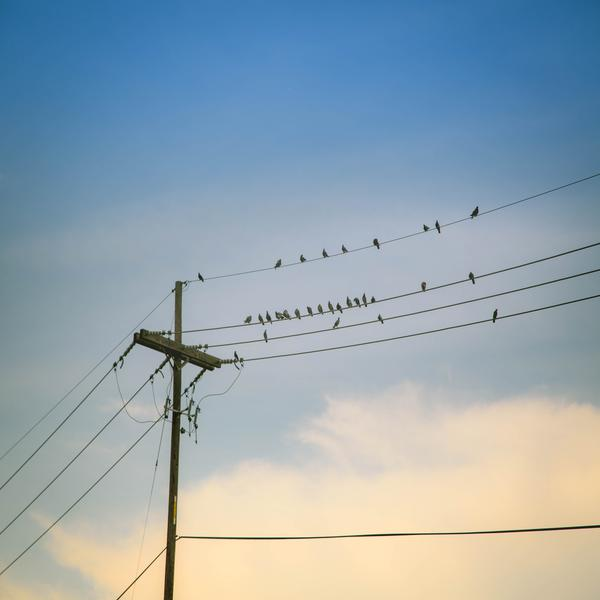utility_pole: (121, 268, 230, 441)
